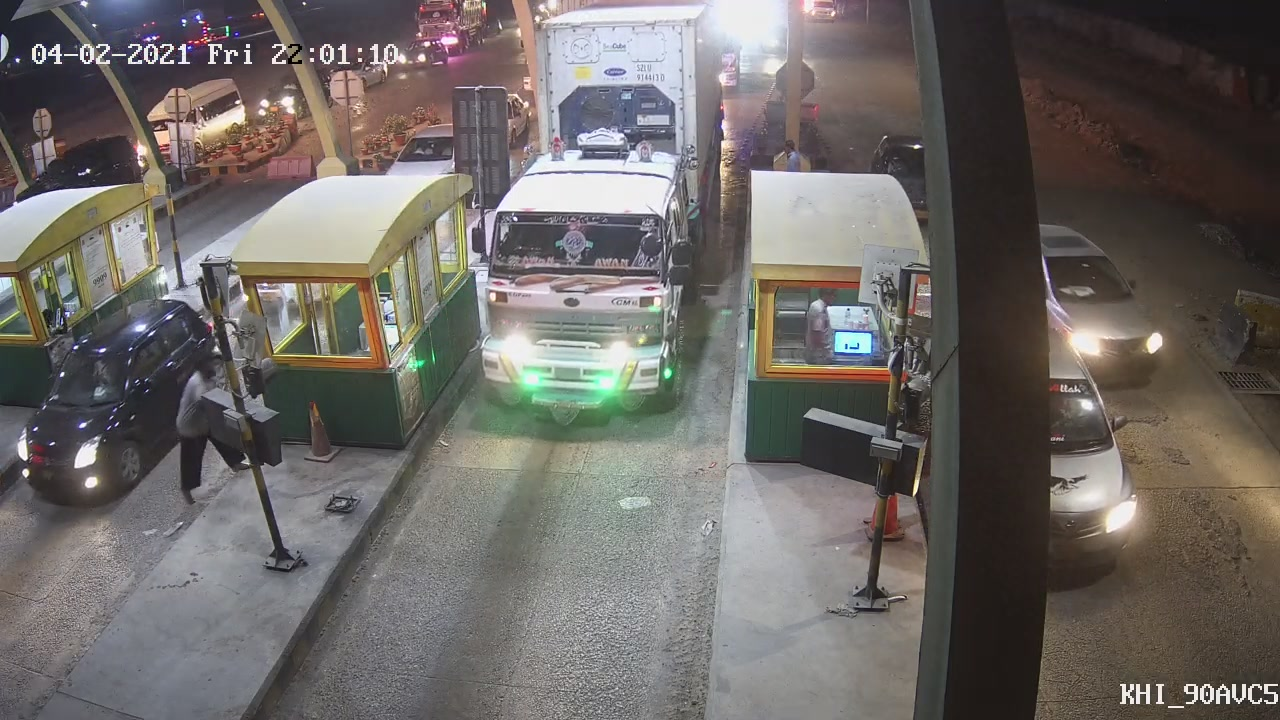F6: (461, 105, 710, 431)
